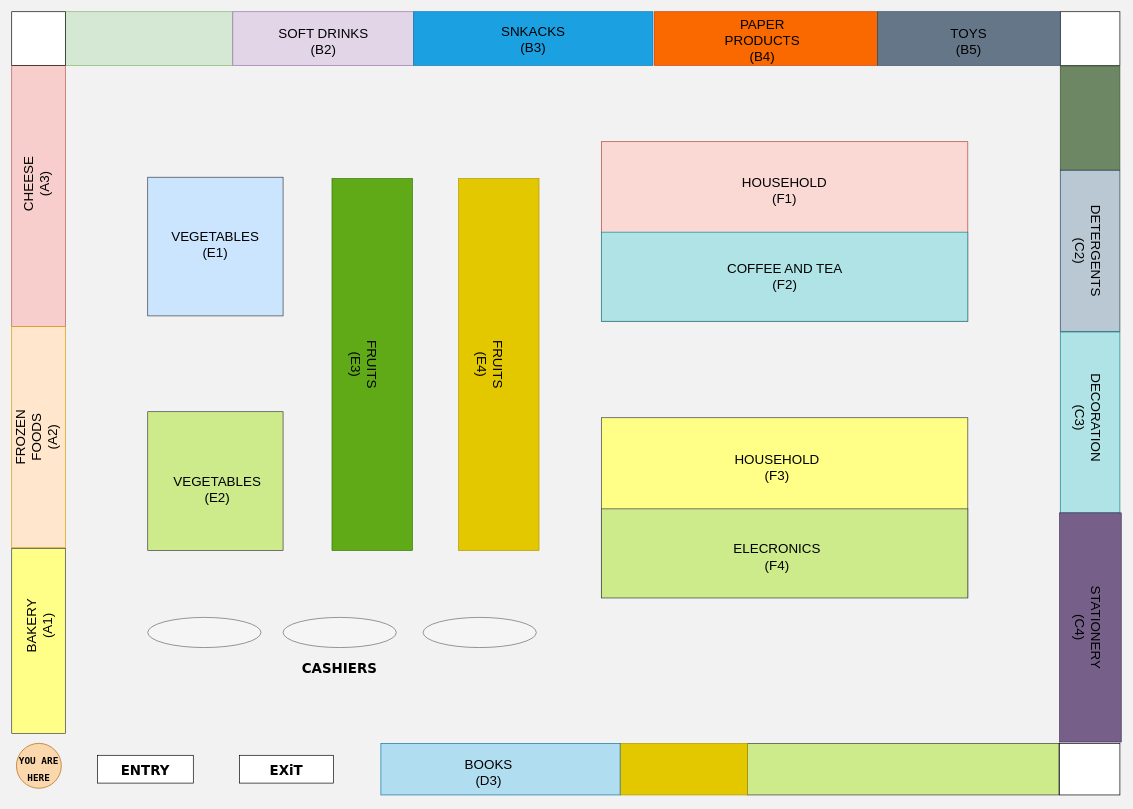
Some shapes in this 1133 by 809 pixel diagram are drawn without their labels. The centre of each missing label's shape, as x and y in pixels:
"CLEANING (C1)" goes at (x=1090, y=117).
"DAIRY (B1)" goes at (x=149, y=38).
"OIL AND SPICES (D1)" goes at (x=903, y=769).
"SEASON (D2)" goes at (x=683, y=769).
